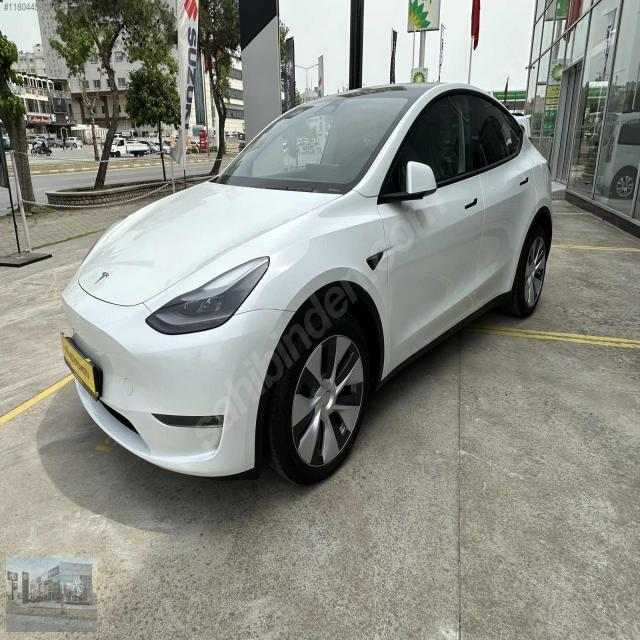tesla: (94, 271, 108, 287)
